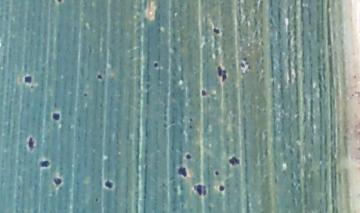tarspot: (192, 183, 207, 198), (217, 65, 228, 82), (103, 178, 114, 189), (176, 167, 187, 178), (27, 136, 35, 151), (228, 156, 240, 166), (38, 160, 50, 168), (23, 75, 32, 85), (211, 25, 221, 34), (216, 184, 226, 193), (53, 177, 62, 186), (52, 112, 60, 121), (200, 88, 208, 97), (184, 152, 192, 160), (152, 60, 159, 69), (96, 73, 103, 80), (94, 196, 100, 203), (188, 115, 193, 123), (83, 92, 88, 98), (214, 171, 220, 176), (242, 56, 247, 62), (239, 63, 246, 67), (188, 124, 193, 129), (55, 1, 63, 4)
